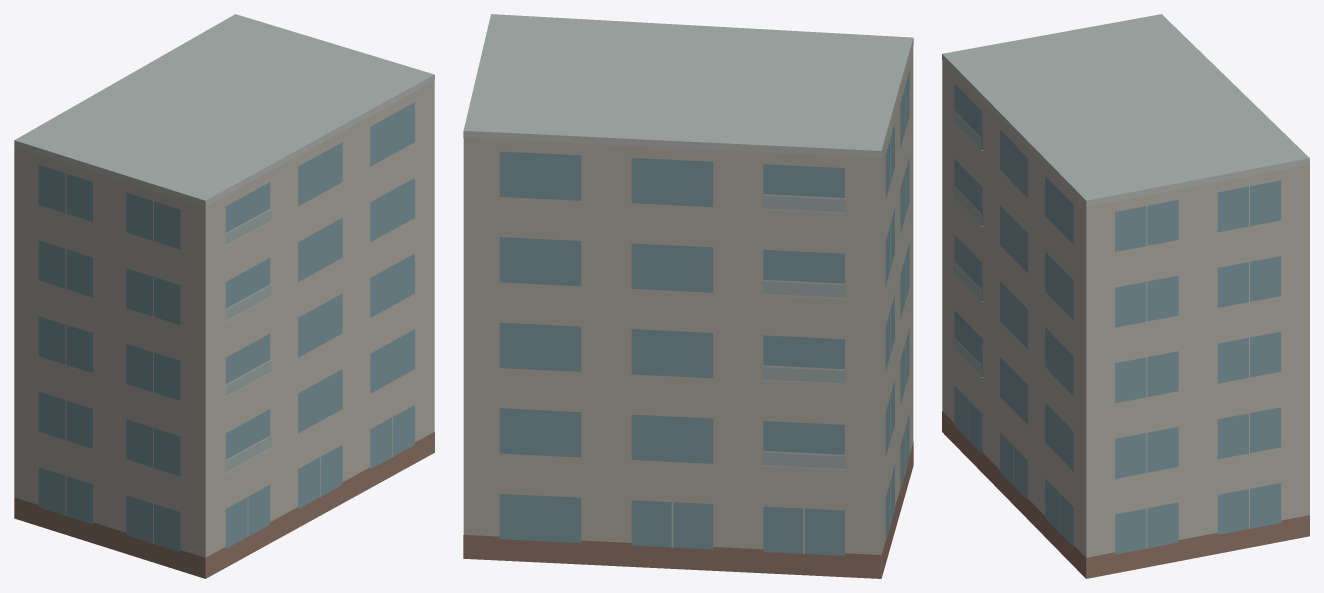
The model's file is survey-upis-33018703.glb.
3 views of the same model, side by side, from view 1: azimuth 30°, elevation 25°; view 2: azimuth 150°, elevation 25°; view 3: azimuth 270°, elevation 25° (orthographic). The views are drawn at different scales.
Parts seen in each view (by area): view 1: survey-upis-33018703.tmp; view 2: survey-upis-33018703.tmp; view 3: survey-upis-33018703.tmp.
Part boxes in pixels (box(x1,y1,x2,y2)): survey-upis-33018703.tmp: box(14, 14, 434, 578); survey-upis-33018703.tmp: box(463, 14, 913, 578); survey-upis-33018703.tmp: box(942, 14, 1309, 578).
Bounding box in the file's own units: 15.53 × 14.65 × 12.92.
